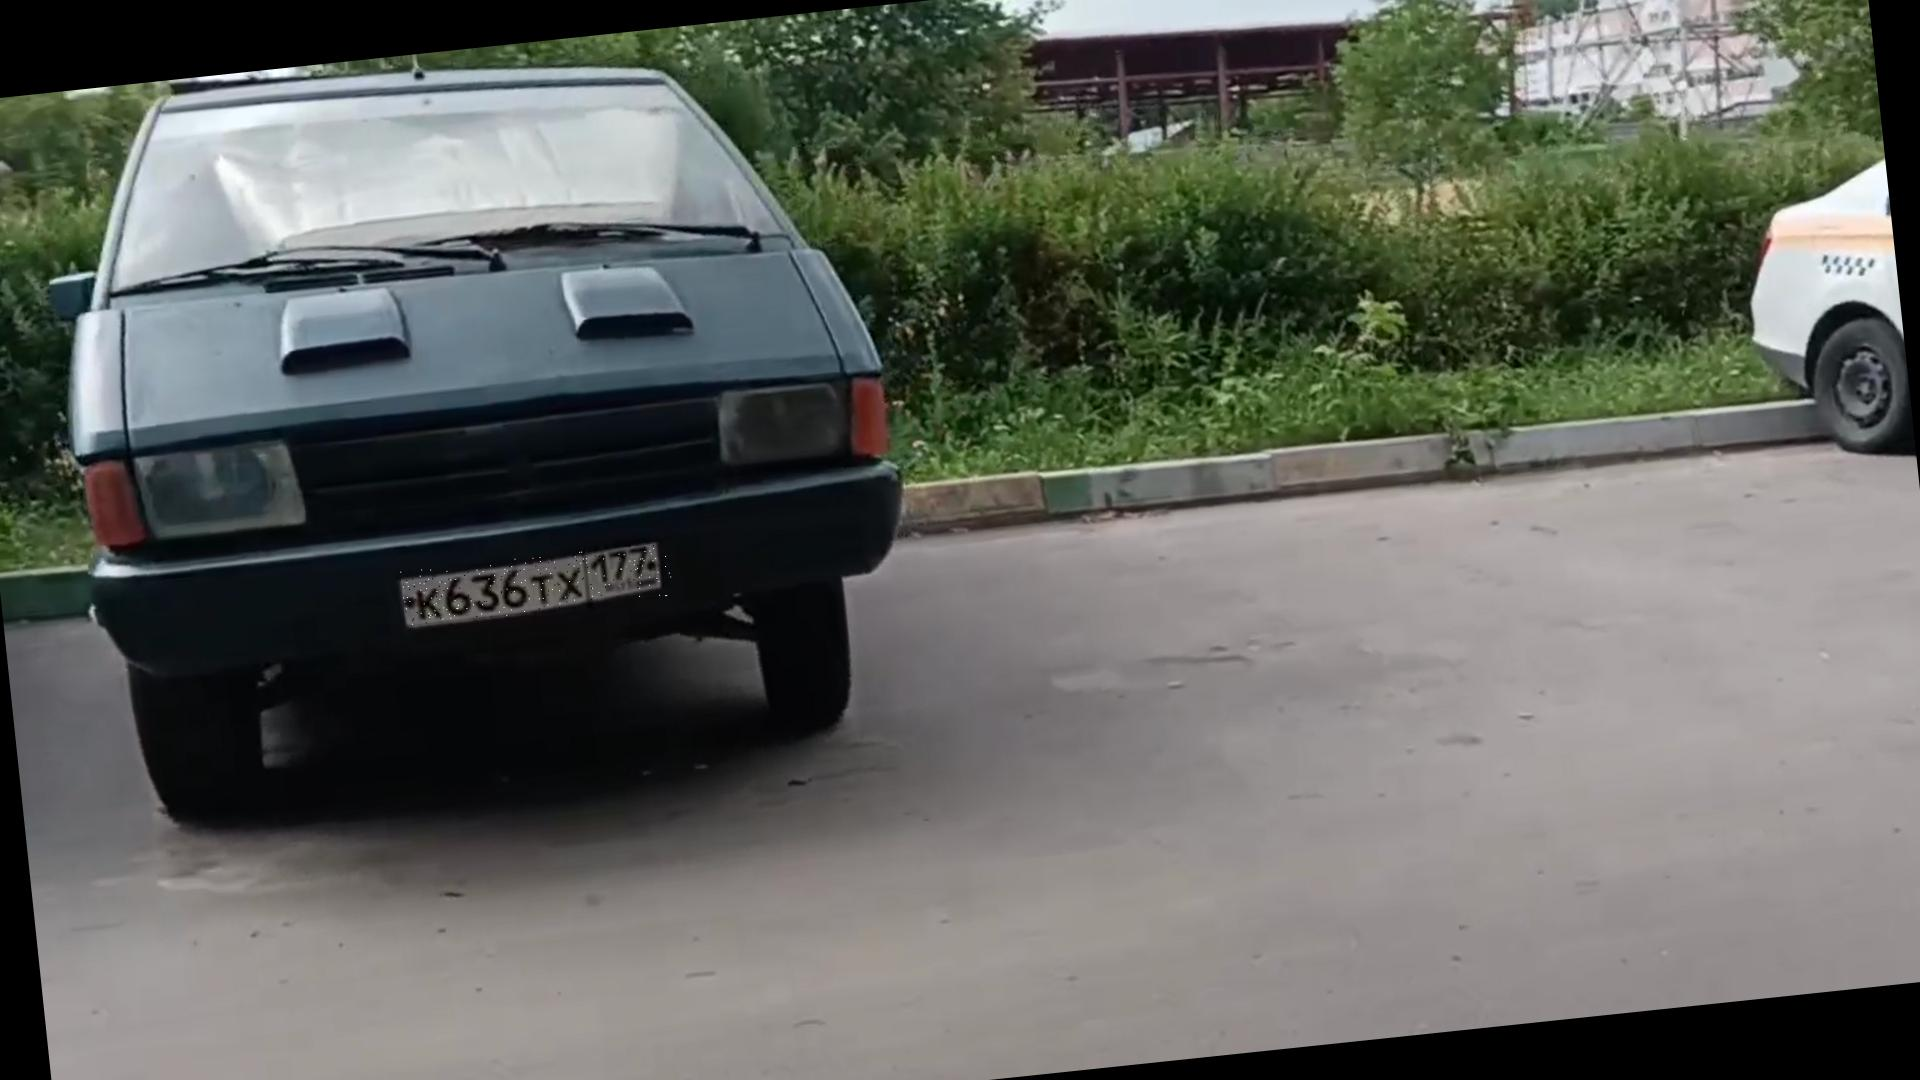plate: (403, 544, 676, 628)
